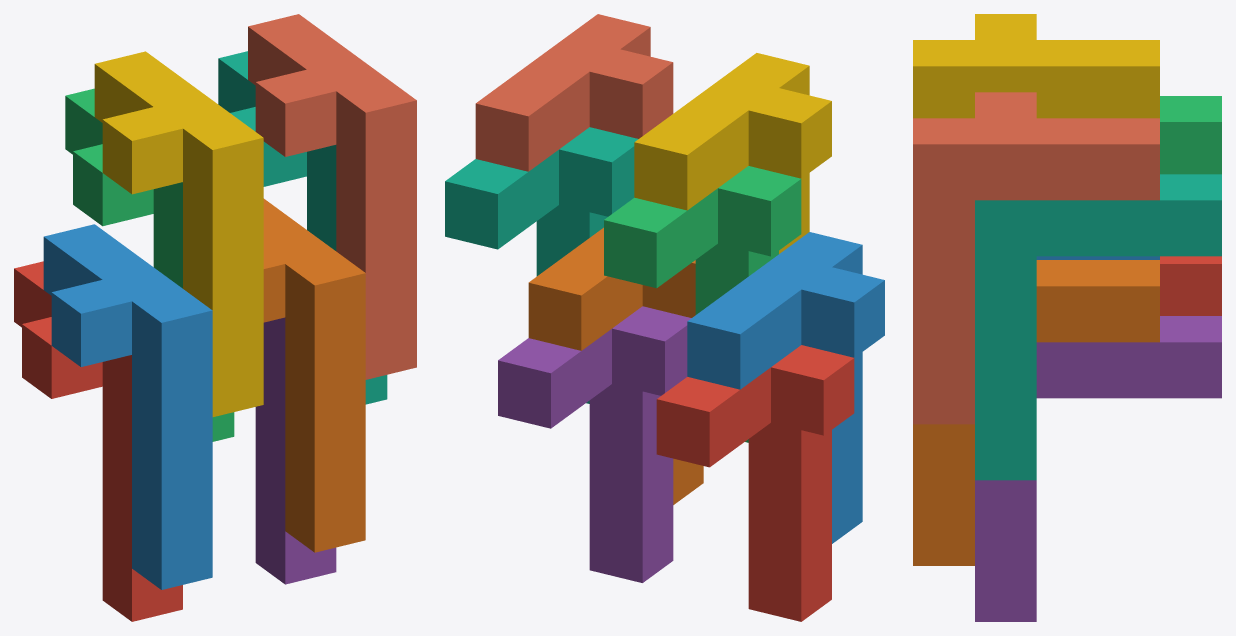
The model's file is tiling.obj.
3 views of the same model, side by side, from view 1: azimuth 30°, elevation 25°; view 2: azimuth 150°, elevation 25°; view 3: azimuth 270°, elevation 25° (orthographic). The views are drawn at different scales.
Parts seen in each view (by area): view 1: copy_1_domain_2, copy_1_domain_4, copy_1_domain_8, copy_1_domain_6, copy_1_domain_1, copy_1_domain_3, copy_1_domain_5, copy_1_domain_7; view 2: copy_1_domain_1, copy_1_domain_5, copy_1_domain_2, copy_1_domain_4, copy_1_domain_8, copy_1_domain_3, copy_1_domain_7, copy_1_domain_6; view 3: copy_1_domain_8, copy_1_domain_7, copy_1_domain_5, copy_1_domain_4, copy_1_domain_6, copy_1_domain_3, copy_1_domain_1, copy_1_domain_2.
Part boxes in pixels (x1,y1,x2,y2): copy_1_domain_2: (43, 224, 212, 589); copy_1_domain_4: (94, 51, 263, 416); copy_1_domain_8: (248, 14, 416, 379); copy_1_domain_6: (263, 198, 365, 552); copy_1_domain_1: (14, 261, 182, 621); copy_1_domain_3: (65, 88, 234, 441); copy_1_domain_5: (255, 317, 336, 584); copy_1_domain_7: (218, 51, 387, 404); copy_1_domain_1: (656, 345, 854, 621); copy_1_domain_5: (498, 306, 691, 582); copy_1_domain_2: (687, 232, 884, 543); copy_1_domain_4: (634, 53, 831, 253); copy_1_domain_8: (475, 14, 673, 171); copy_1_domain_3: (604, 166, 801, 442); copy_1_domain_7: (445, 127, 638, 403); copy_1_domain_6: (528, 227, 703, 504); copy_1_domain_8: (913, 92, 1159, 424); copy_1_domain_7: (975, 174, 1221, 480); copy_1_domain_5: (975, 316, 1221, 621); copy_1_domain_4: (913, 14, 1159, 118); copy_1_domain_6: (913, 260, 1159, 565); copy_1_domain_3: (1160, 96, 1221, 174); copy_1_domain_1: (1160, 256, 1221, 315); copy_1_domain_2: (1036, 256, 1159, 259).
Bounding box in the file's own units: 6 × 9 × 5.
